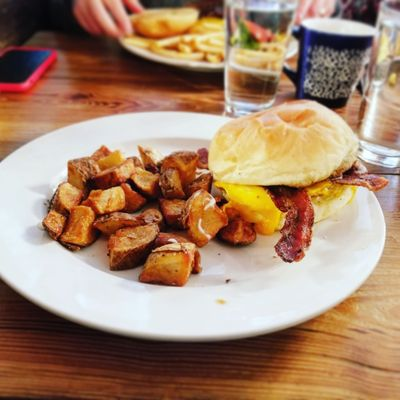pizza: (296, 17, 378, 109)
soup: (207, 97, 371, 263)
